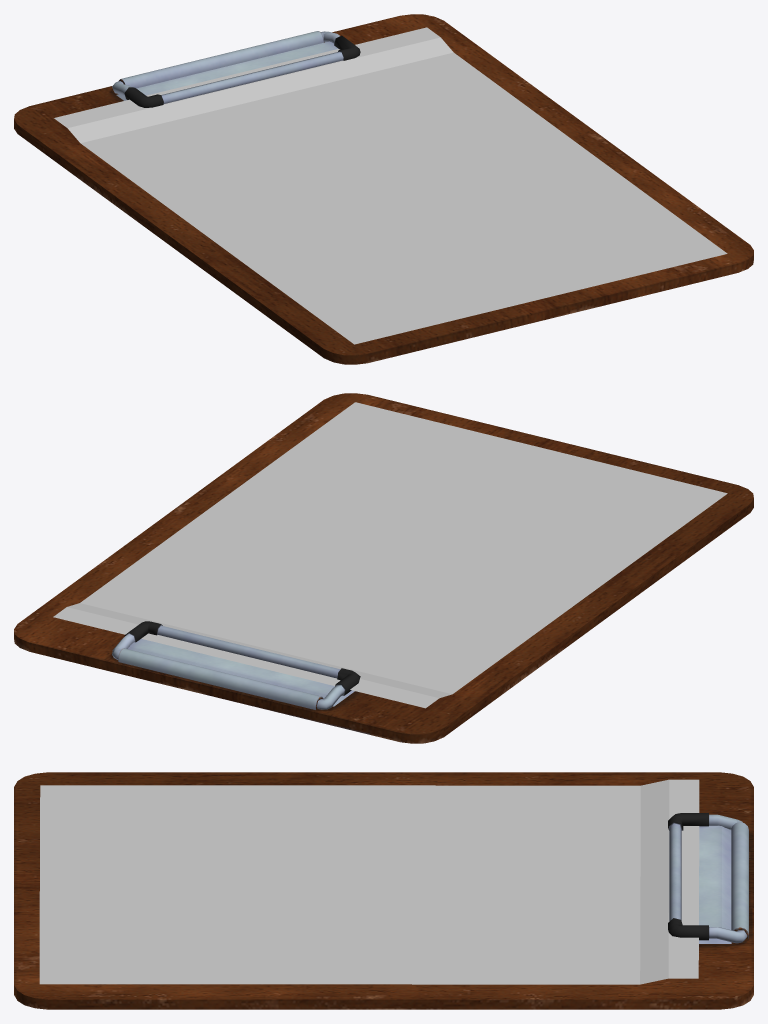
File: SM_Clipboard_01.FBX
The picture shows the model from 3 angles, top to bottom: view 1: azimuth 30°, elevation 25°; view 2: azimuth 150°, elevation 25°; view 3: azimuth 270°, elevation 25°; orthographic projection. The views are drawn at different scales.
Visible parts, largest first — view 1: Clipboard_01; view 2: Clipboard_01; view 3: Clipboard_01.
Boxes of the visible parts, left/top/right/bottom form: Clipboard_01: left=14, top=14, right=753, bottom=364; Clipboard_01: left=14, top=393, right=753, bottom=743; Clipboard_01: left=14, top=772, right=753, bottom=1009.
Size of the model in its own units: 24 by 1.29 by 33.
